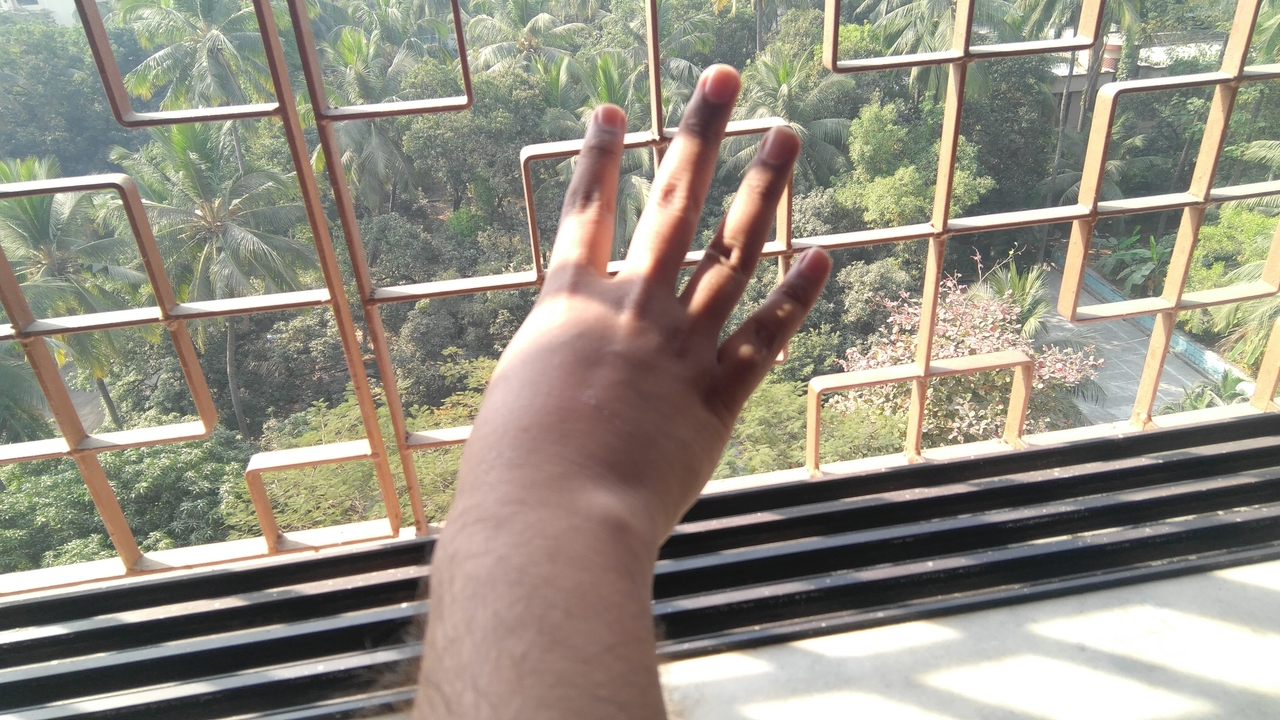fingertip: (748, 112, 804, 170), (580, 92, 632, 144), (690, 58, 744, 108), (784, 238, 836, 288)
